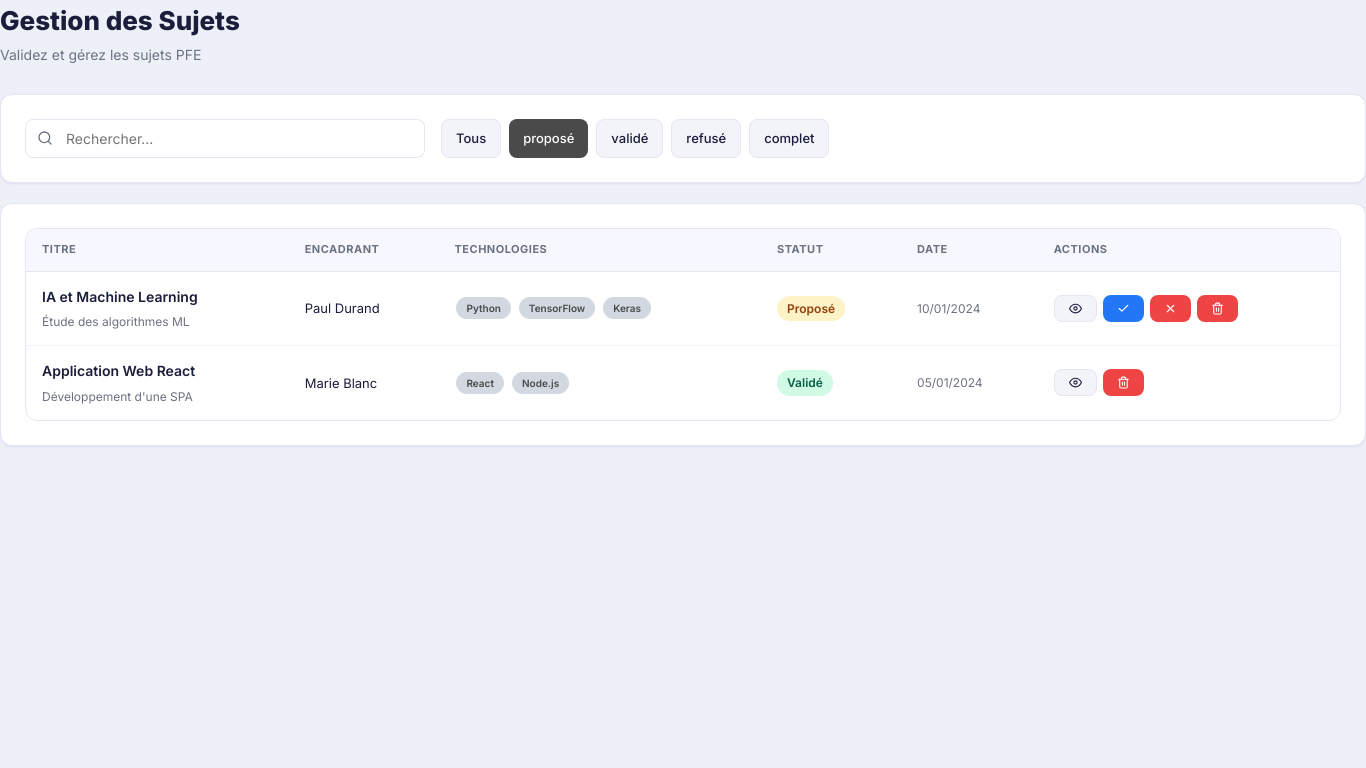
AdminSubjectsPage › ouvre la modale de refus au clic sur Refuser
Expected: the text "IA et Machine Learning" is shown, x1=42 y1=288 x2=198 y2=305
Step 1. Click the 1st button with class "btn-danger" → (1170, 308), box x1=1150 y1=295 x2=1191 y2=322
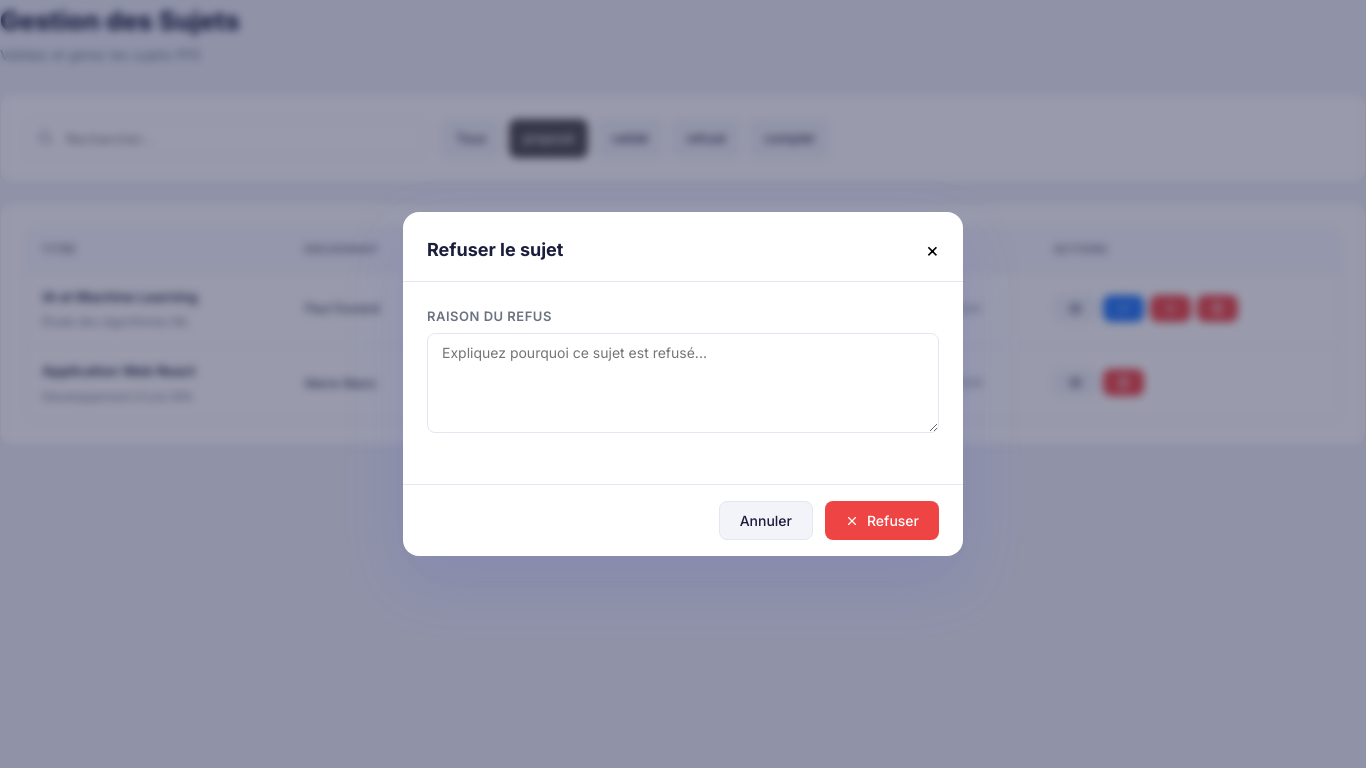
Result: the heading "Refuser le sujet" is shown at x1=427 y1=236 x2=563 y2=265
